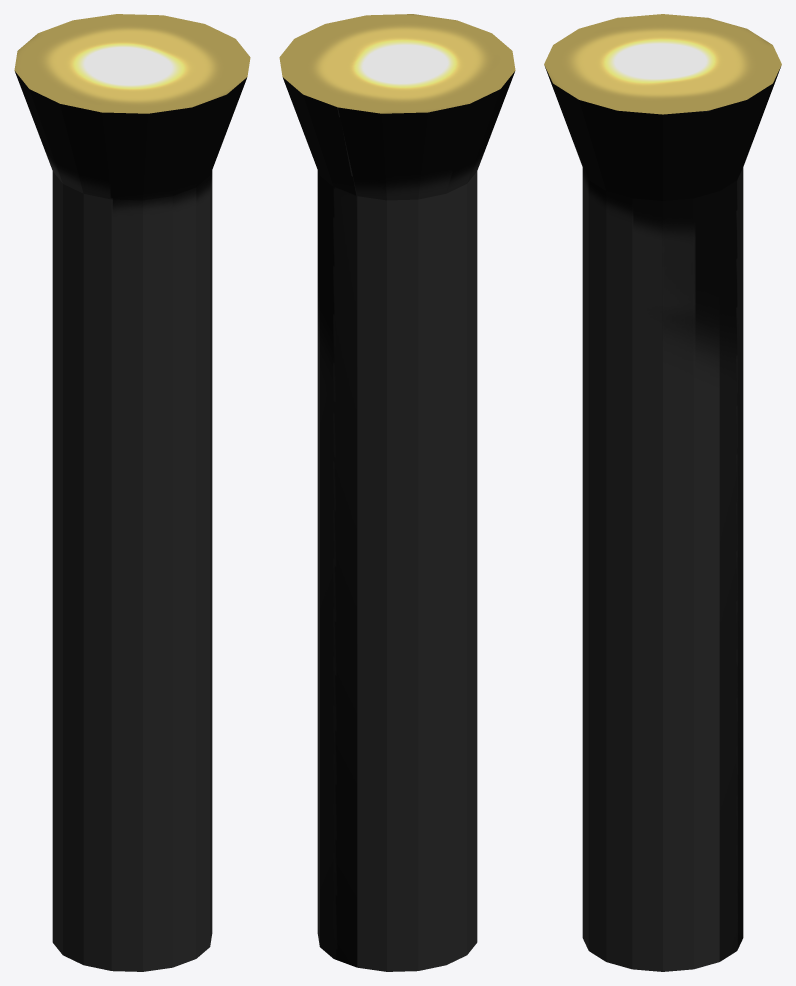
Rendered from torche.gltf.
3 renders of one model, left to right at view 1: azimuth 30°, elevation 25°; view 2: azimuth 150°, elevation 25°; view 3: azimuth 270°, elevation 25°, orthographic.
Visible parts, largest first — view 1: torche; view 2: torche; view 3: torche.
Part boxes in pixels (bbox=[...]): torche: bbox=[14, 14, 250, 971]; torche: bbox=[279, 14, 515, 971]; torche: bbox=[544, 14, 781, 971].
Bounding box in the file's own units: 0.074 × 0.3 × 0.074.
1 material, 1 textured.
